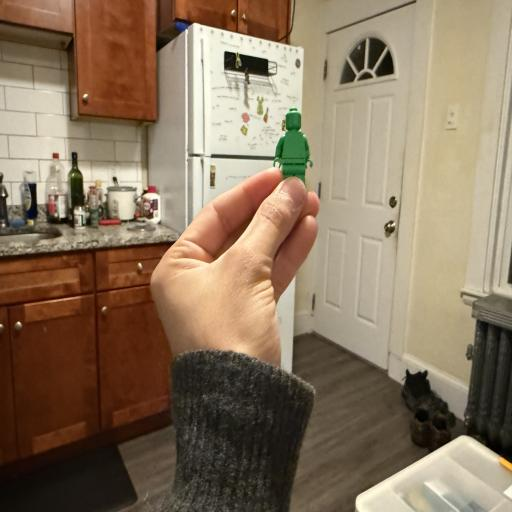Minifig: (274, 108, 312, 183)
